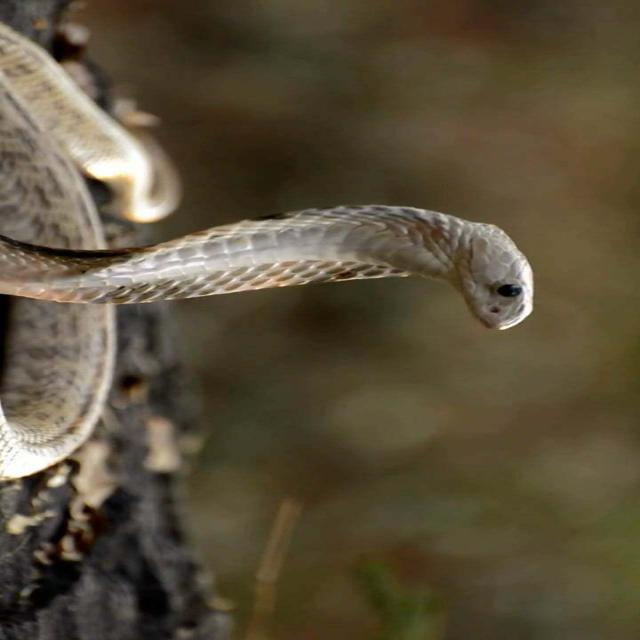Venomous: (135, 187, 552, 348)
